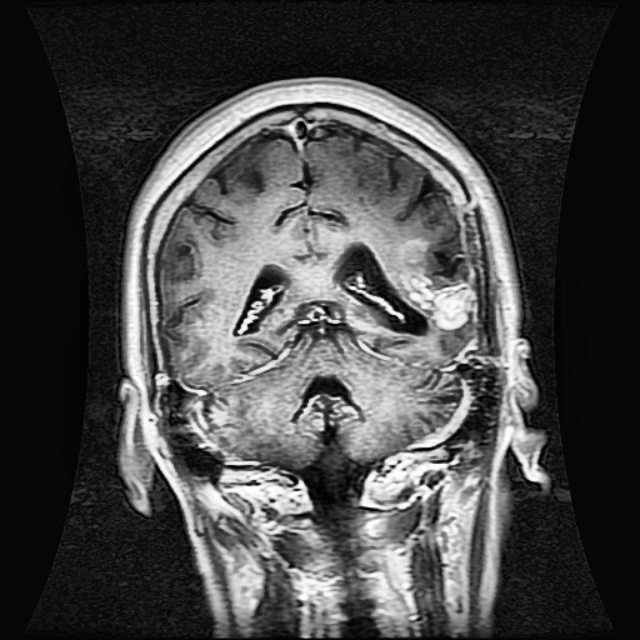Meningioma: (392, 238, 478, 329)
